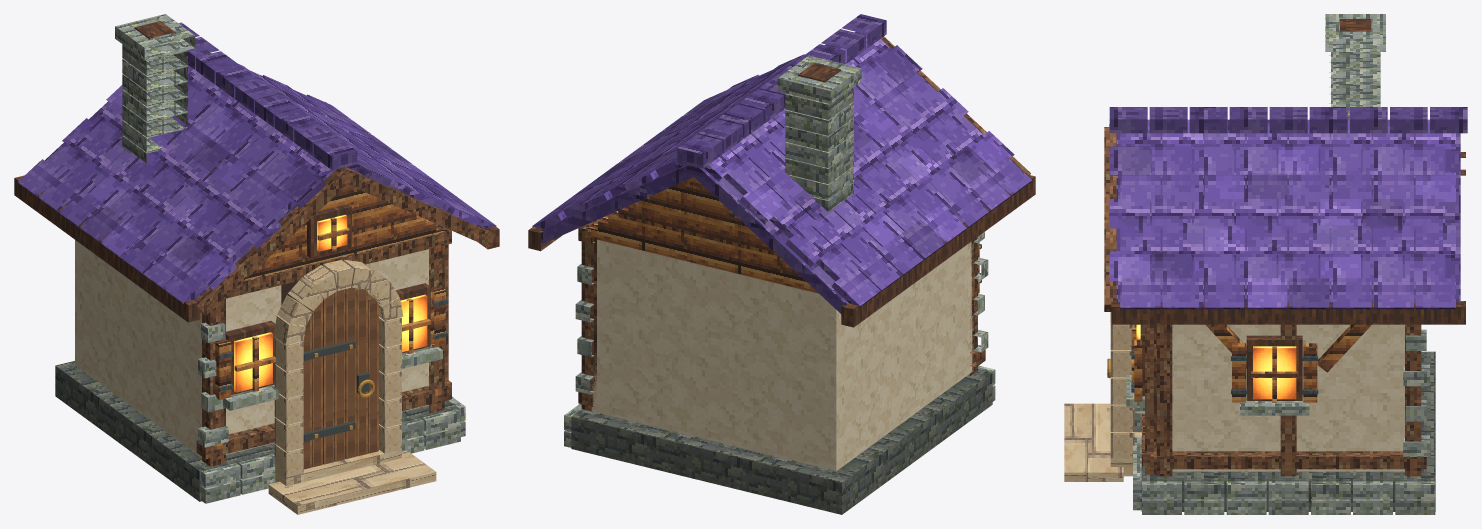
3 views of the same model, side by side, from view 1: azimuth 30°, elevation 25°; view 2: azimuth 150°, elevation 25°; view 3: azimuth 270°, elevation 25° (orthographic). The views are drawn at different scales.
Parts seen in each view (by area): view 1: roof_geometry, plaster_geometry, wood_geometry, roof_dark_geometry, stone_light_geometry, stone_dark_geometry, oak_geometry, roof_light_geometry, wood_dark_geometry, stone_geometry, Walkable entry tread 0, window_warm_geometry (+24 smaller); view 2: plaster_geometry, roof_geometry, stone_dark_geometry, roof_dark_geometry, oak_geometry, stone_light_geometry, roof_light_geometry, wood_dark_geometry, stone_geometry, wood_geometry; view 3: roof_geometry, plaster_geometry, roof_dark_geometry, wood_geometry, stone_light_geometry, roof_light_geometry, wood_dark_geometry, stone_geometry, stone_dark_geometry, Walkable entry tread 0, oak_geometry, window_warm_geometry (+6 smaller).
Part boxes in pixels (left/top/right/bottom): roof_geometry: left=18, top=53, right=496, bottom=303; plaster_geometry: left=75, top=240, right=428, bottom=457; wood_geometry: left=195, top=167, right=495, bottom=466; roof_dark_geometry: left=44, top=22, right=487, bottom=300; stone_light_geometry: left=115, top=14, right=465, bottom=494; stone_dark_geometry: left=55, top=57, right=458, bottom=501; oak_geometry: left=215, top=184, right=446, bottom=399; roof_light_geometry: left=89, top=53, right=479, bottom=289; wood_dark_geometry: left=14, top=21, right=499, bottom=394; stone_geometry: left=122, top=44, right=465, bottom=503; Walkable entry tread 0: left=268, top=450, right=436, bottom=514; window_warm_geometry: left=234, top=214, right=427, bottom=392; plaster_geometry: left=591, top=239, right=972, bottom=470; roof_geometry: left=532, top=32, right=1032, bottom=307; stone_dark_geometry: left=571, top=369, right=992, bottom=514; roof_dark_geometry: left=541, top=14, right=1004, bottom=313; oak_geometry: left=587, top=177, right=979, bottom=293; stone_light_geometry: left=564, top=55, right=995, bottom=431; roof_light_geometry: left=607, top=47, right=1014, bottom=246; wood_dark_geometry: left=528, top=63, right=1035, bottom=327; stone_geometry: left=564, top=87, right=995, bottom=447; wood_geometry: left=578, top=36, right=1030, bottom=411; roof_geometry: left=1109, top=119, right=1455, bottom=309; plaster_geometry: left=1172, top=324, right=1404, bottom=471; roof_dark_geometry: left=1109, top=107, right=1467, bottom=309; wood_geometry: left=1104, top=127, right=1426, bottom=476; stone_light_geometry: left=1126, top=14, right=1435, bottom=514; roof_light_geometry: left=1109, top=119, right=1455, bottom=309; wood_dark_geometry: left=1111, top=19, right=1465, bottom=400; stone_geometry: left=1133, top=52, right=1435, bottom=514; stone_dark_geometry: left=1141, top=55, right=1435, bottom=511; Walkable entry tread 0: left=1064, top=403, right=1123, bottom=481; oak_geometry: left=1134, top=324, right=1371, bottom=402; window_warm_geometry: left=1136, top=324, right=1296, bottom=399.
Bounding box in the file's own units: 3.42 × 3.96 × 3.73.
17 materials, 16 textured.
